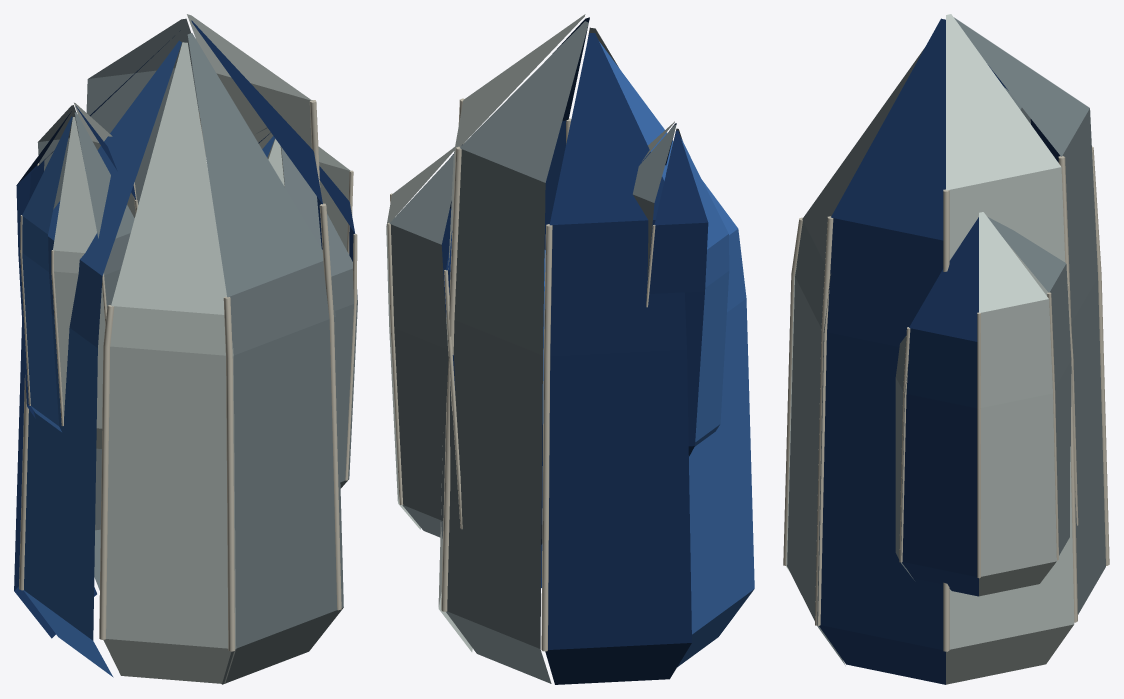
File: ice_calving.glb
3 renders of one model, left to right at view 1: azimuth 30°, elevation 25°; view 2: azimuth 150°, elevation 25°; view 3: azimuth 270°, elevation 25°, orthographic.
Parts seen in each view (by area): view 1: ice_calving; view 2: ice_calving; view 3: ice_calving.
Part boxes in pixels (<box>): ice_calving: <box>14,14,357,684</box>; ice_calving: <box>386,14,754,684</box>; ice_calving: <box>783,14,1109,684</box>.
Bounding box in the file's own units: 2.89 × 5.2 × 2.49.
